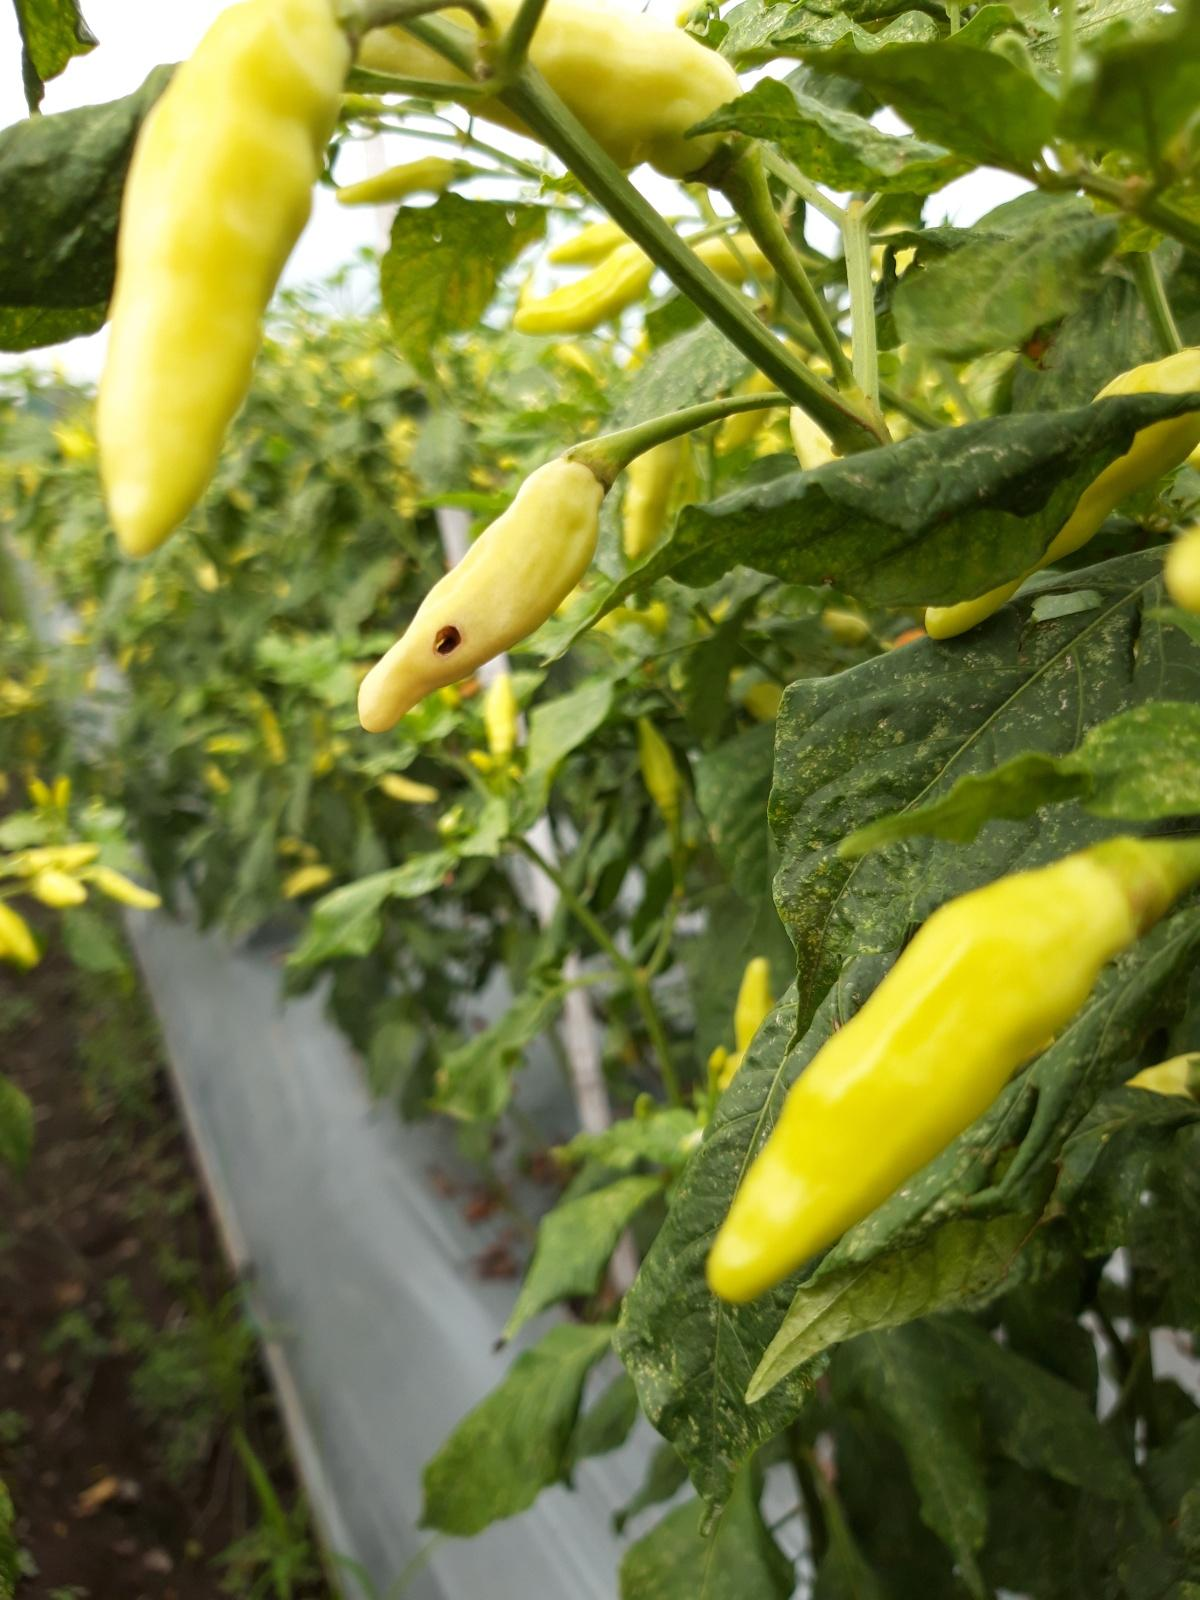cabai_normal: (703, 837, 1171, 1301), (86, 0, 372, 562)
lalat_buah: (355, 454, 613, 736)
